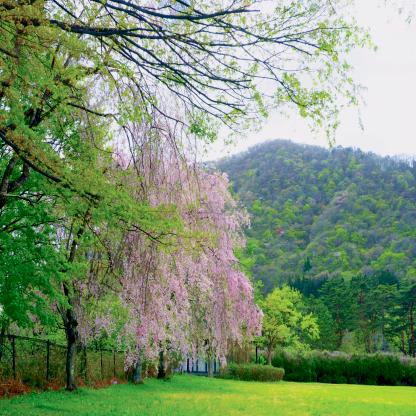ShidareZakura: (10, 85, 265, 378)
